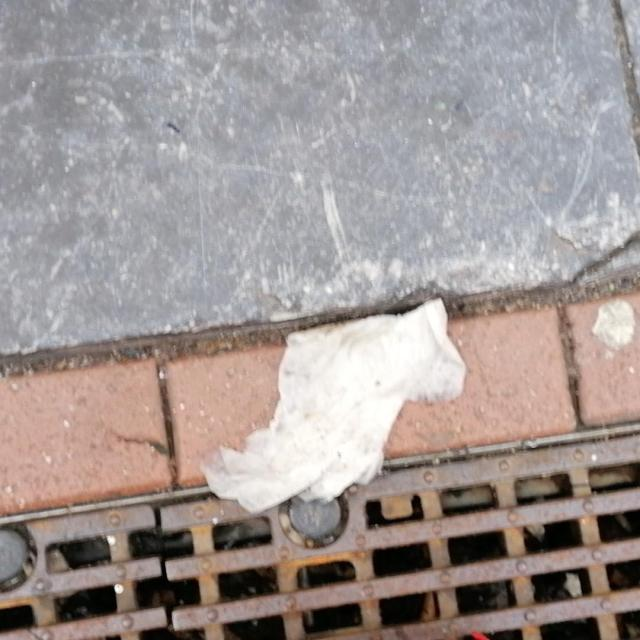Paper: (195, 294, 468, 516)
